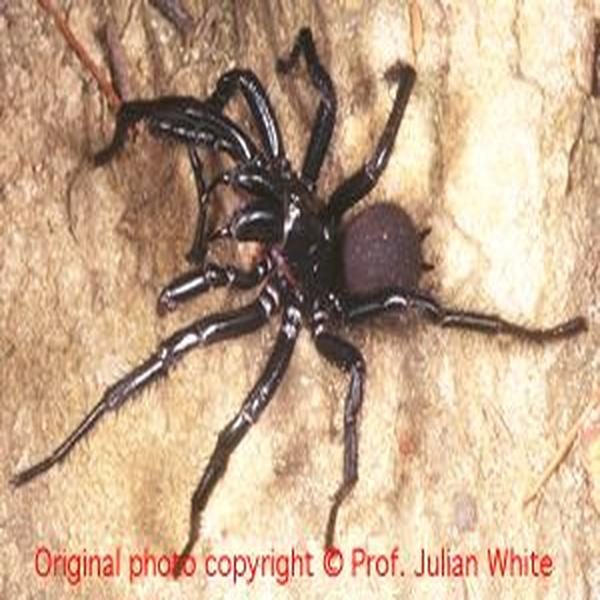Funnel Web Spider: (48, 34, 554, 548)
